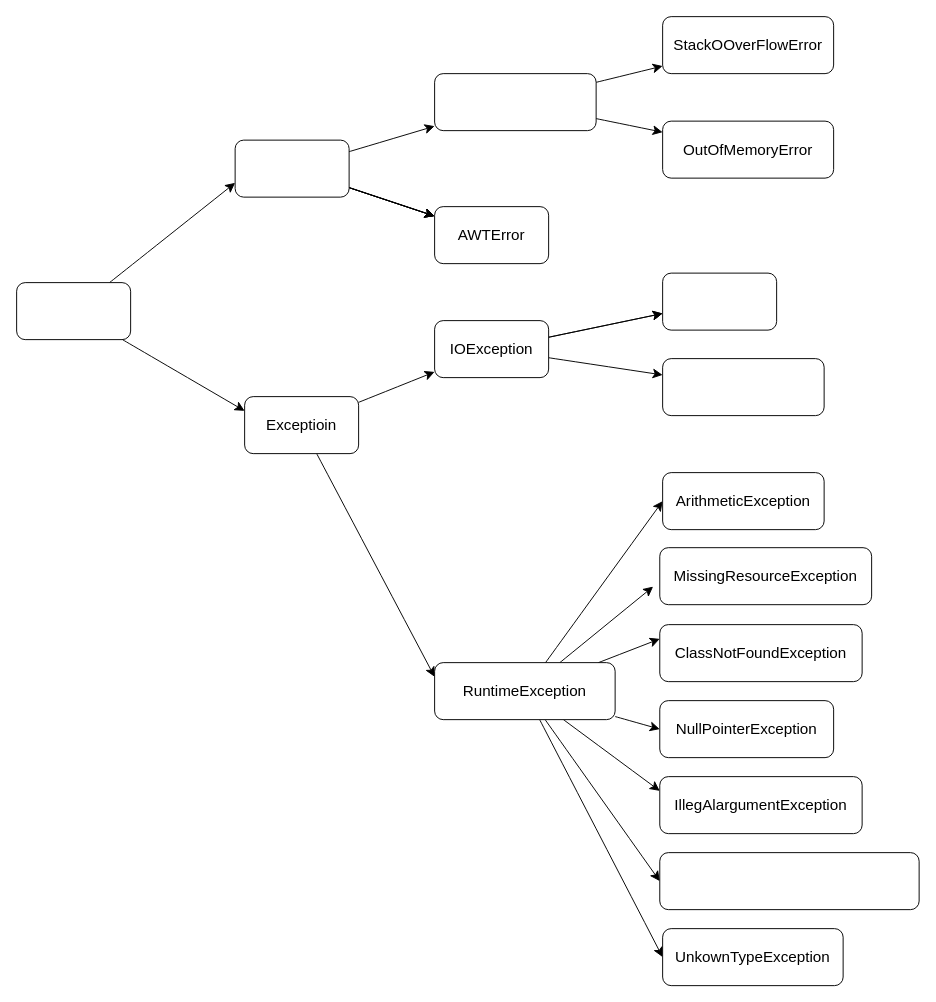
The diagram is 936 pixels wide and 1002 high, and some of its shapes have lost their labels. Here are the shapes that lost their labels. From the top down, the centre of each, then its label:
[515,102]: VirtulMachineError
[291,168]: Error
[73,311]: Throwable
[719,301]: EOFException
[743,387]: FileNotFoundExcetion
[789,881]: ArrayIndexOutOfBoundsException
